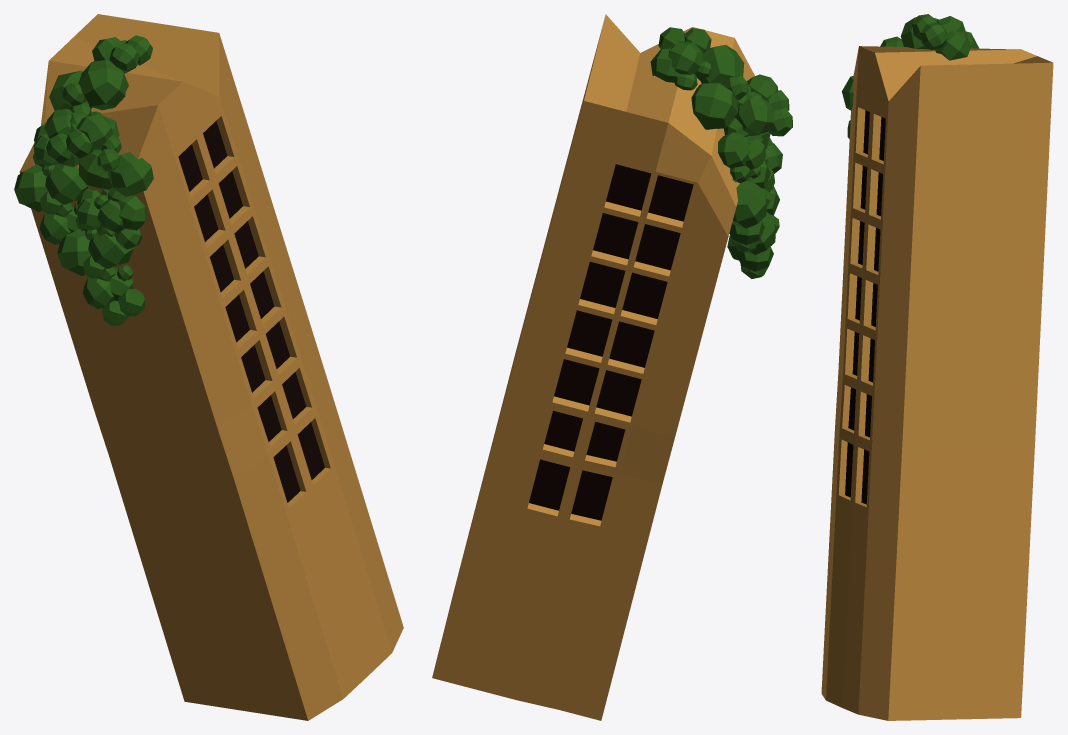
File: Obstaculo3.fbx
3 views of the same model, side by side, from view 1: azimuth 30°, elevation 25°; view 2: azimuth 150°, elevation 25°; view 3: azimuth 270°, elevation 25° (orthographic). The views are drawn at different scales.
Parts seen in each view (by area): view 1: Obstaculo3; view 2: Obstaculo3; view 3: Obstaculo3.
Part boxes in pixels (x1,y1,x2,y2): Obstaculo3: (14,14,403,720); Obstaculo3: (432,14,792,720); Obstaculo3: (821,14,1053,720).
Bounding box in the file's own units: 1454 × 2758 × 906.
